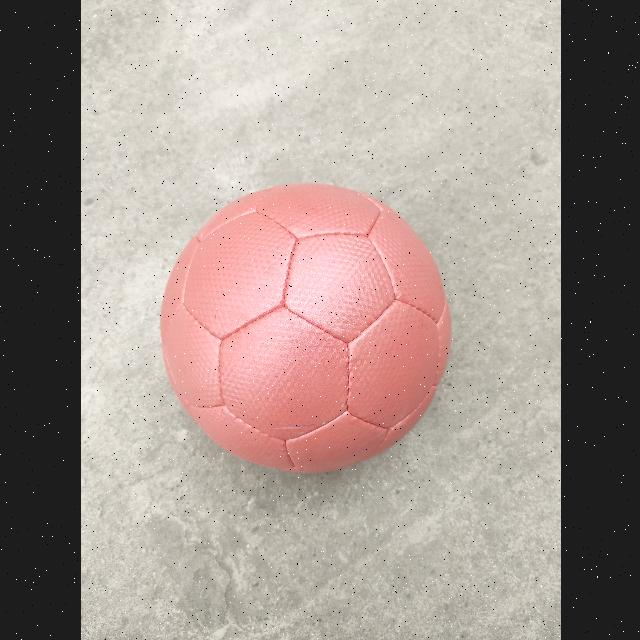R: (158, 184, 450, 474)
